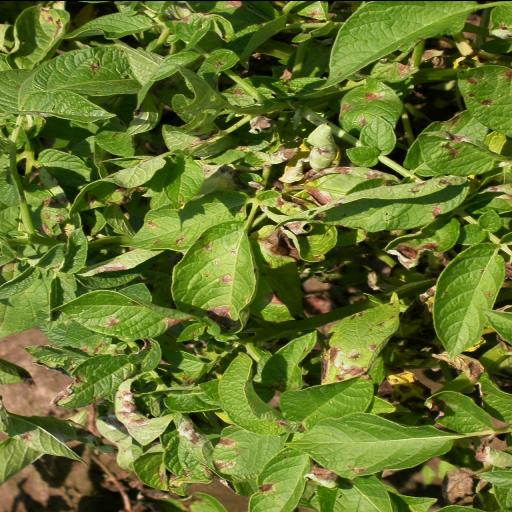disease_tomato: (270, 173, 473, 235), (284, 410, 456, 480), (168, 219, 260, 333), (316, 291, 404, 383), (299, 164, 405, 216), (110, 368, 174, 446), (452, 60, 512, 142), (383, 212, 463, 270), (157, 416, 222, 484), (337, 76, 405, 134), (416, 130, 500, 176)
